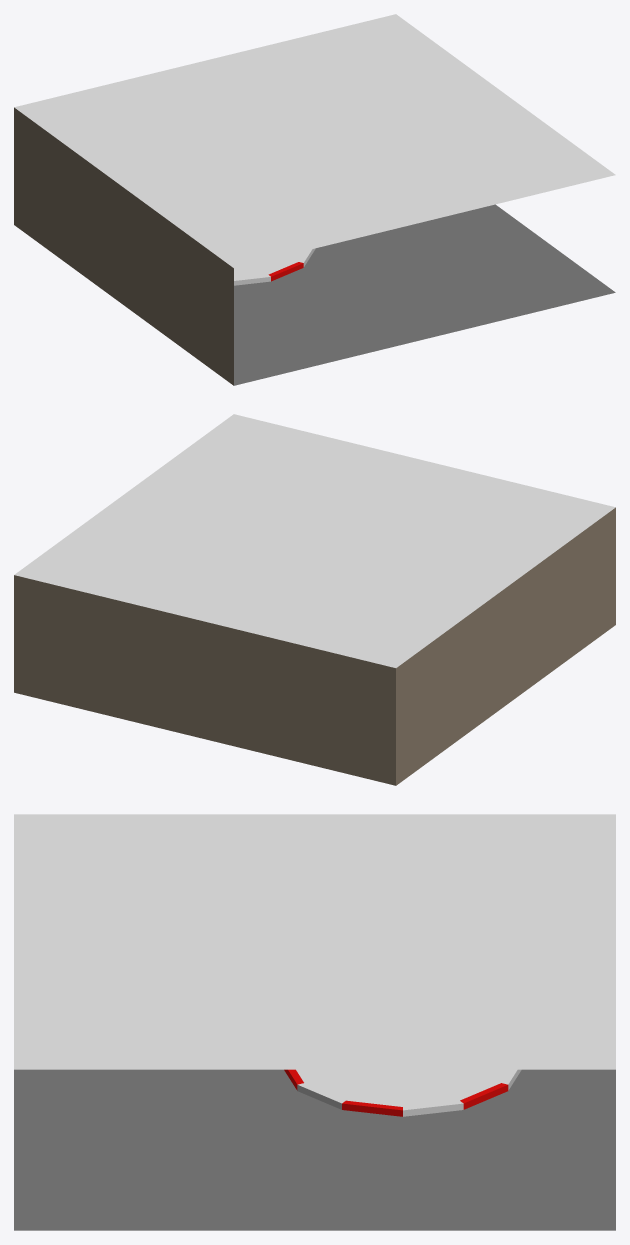
Rendered from Garaz.fbx.
The picture shows the model from 3 angles, top to bottom: view 1: azimuth 30°, elevation 25°; view 2: azimuth 150°, elevation 25°; view 3: azimuth 270°, elevation 25°; orthographic projection. The views are drawn at different scales.
Visible parts, largest first — view 1: Cube, Circle; view 2: Cube; view 3: Cube, Circle.
Part boxes in pixels (<box>): Cube: <box>14,14,615,385</box>; Circle: <box>234,248,315,285</box>; Cube: <box>14,414,615,785</box>; Cube: <box>14,814,615,1230</box>; Circle: <box>284,1069,521,1116</box>.
Size of the model in its own units: 1700 by 500 by 1695.
